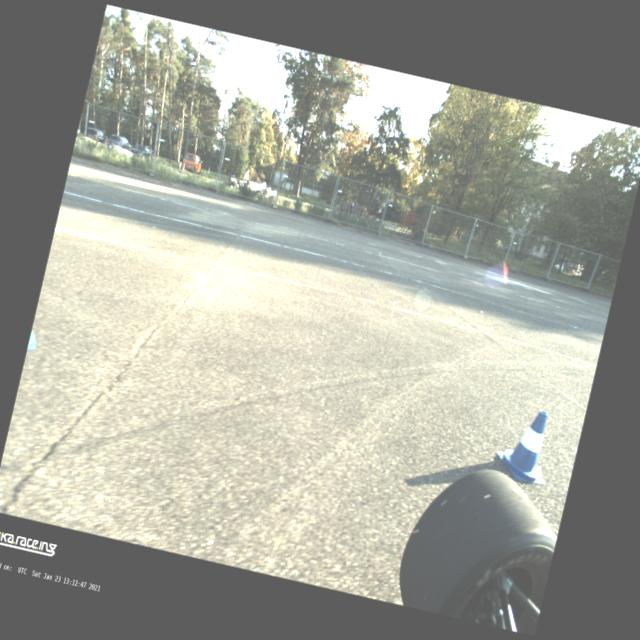blue_cone: (491, 402, 560, 485), (27, 332, 38, 351)
